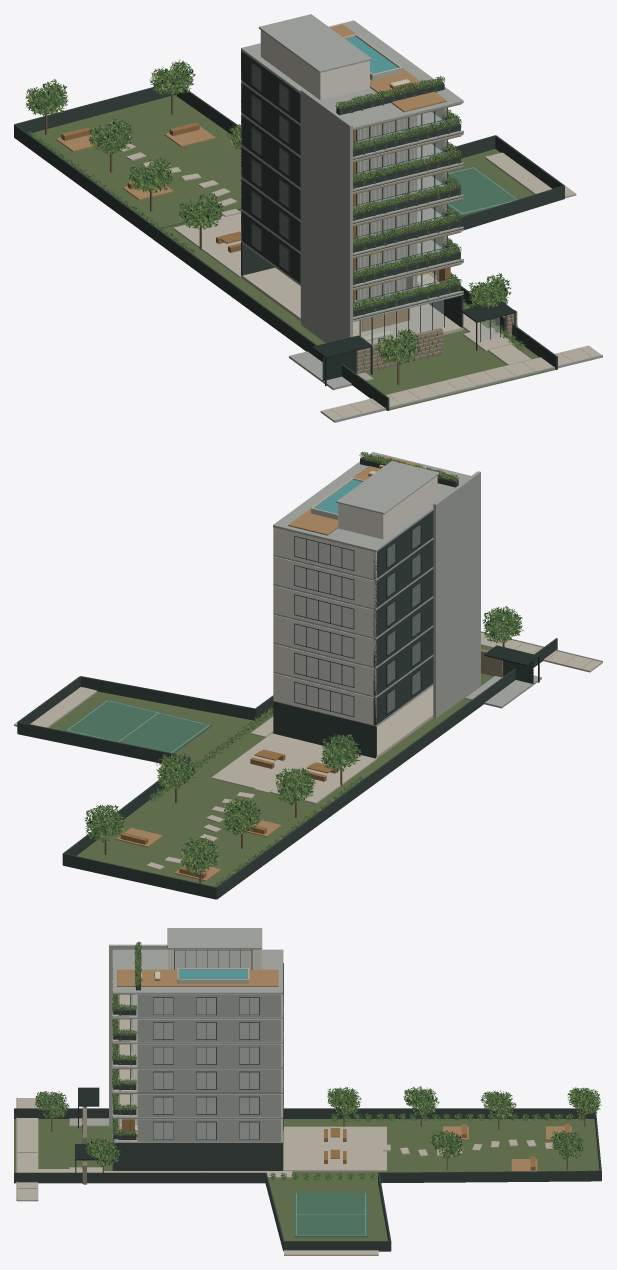
Rendered from apogeu.glb.
The picture shows the model from 3 angles, top to bottom: view 1: azimuth 30°, elevation 25°; view 2: azimuth 150°, elevation 25°; view 3: azimuth 270°, elevation 25°; orthographic projection. The views are drawn at different scales.
Visible parts, largest first — view 1: structure__Concreto mineral, site__Revestimento grafite, leisure__Forracao rasteira, site__Forracao rasteira, roof__Concreto mineral, site__Piso mineral claro, landscape__Folha 1, landscape__Folha 3, landscape__Folha 2, base__Piso mineral claro, landscape__Folha 0, roof__Paredes internas (+47 smaller); view 2: site__Revestimento grafite, leisure__Forracao rasteira, structure__Concreto mineral, site__Forracao rasteira, roof__Concreto mineral, leisure__Piso mineral claro, leisure__Quadra verde, landscape__Folha 1, landscape__Folha 3, landscape__Folha 2, landscape__Folha 0, base__Revestimento grafite (+26 smaller); view 3: site__Revestimento grafite, site__Forracao rasteira, leisure__Forracao rasteira, roof__Concreto mineral, leisure__Piso mineral claro, base__Revestimento grafite, floor_06__Concreto mineral, floor_02__Concreto mineral, floor_05__Concreto mineral, floor_04__Concreto mineral, floor_03__Concreto mineral, floor_01__Concreto mineral (+21 smaller).
Part boxes in pixels (x1,y1,x2,y2): structure__Concreto mineral: [300, 89, 352, 343]; site__Revestimento grafite: [14, 86, 588, 416]; leisure__Forracao rasteira: [32, 99, 241, 228]; site__Forracao rasteira: [32, 95, 555, 410]; roof__Concreto mineral: [241, 14, 463, 129]; site__Piso mineral claro: [320, 152, 601, 422]; landscape__Folha 1: [26, 61, 524, 364]; landscape__Folha 3: [25, 62, 524, 365]; landscape__Folha 2: [26, 59, 523, 362]; base__Piso mineral claro: [241, 267, 513, 351]; landscape__Folha 0: [27, 60, 525, 362]; roof__Paredes internas: [260, 30, 369, 100]; site__Revestimento grafite: [17, 637, 589, 899]; leisure__Forracao rasteira: [80, 775, 324, 886]; structure__Concreto mineral: [433, 471, 480, 718]; site__Forracao rasteira: [49, 645, 493, 856]; roof__Concreto mineral: [273, 452, 470, 552]; leisure__Piso mineral claro: [146, 733, 376, 869]; leisure__Quadra verde: [64, 699, 212, 753]; landscape__Folha 1: [84, 607, 522, 886]; landscape__Folha 3: [85, 606, 521, 886]; landscape__Folha 2: [85, 606, 524, 886]; landscape__Folha 0: [85, 608, 521, 885]; base__Revestimento grafite: [273, 701, 376, 758]; site__Revestimento grafite: [14, 1108, 601, 1251]; site__Forracao rasteira: [14, 1119, 599, 1240]; leisure__Forracao rasteira: [391, 1119, 588, 1172]; roof__Concreto mineral: [112, 928, 283, 994]; leisure__Piso mineral claro: [283, 1126, 553, 1171]; base__Revestimento grafite: [112, 1143, 282, 1170]; floor_06__Concreto mineral: [112, 973, 282, 1018]; floor_02__Concreto mineral: [112, 1093, 282, 1118]; floor_05__Concreto mineral: [112, 1018, 282, 1043]; floor_04__Concreto mineral: [112, 1044, 282, 1068]; floor_03__Concreto mineral: [112, 1068, 282, 1093]; floor_01__Concreto mineral: [112, 1118, 282, 1142].
Size of the model in its own units: 43.2 by 26.56 by 68.52.
